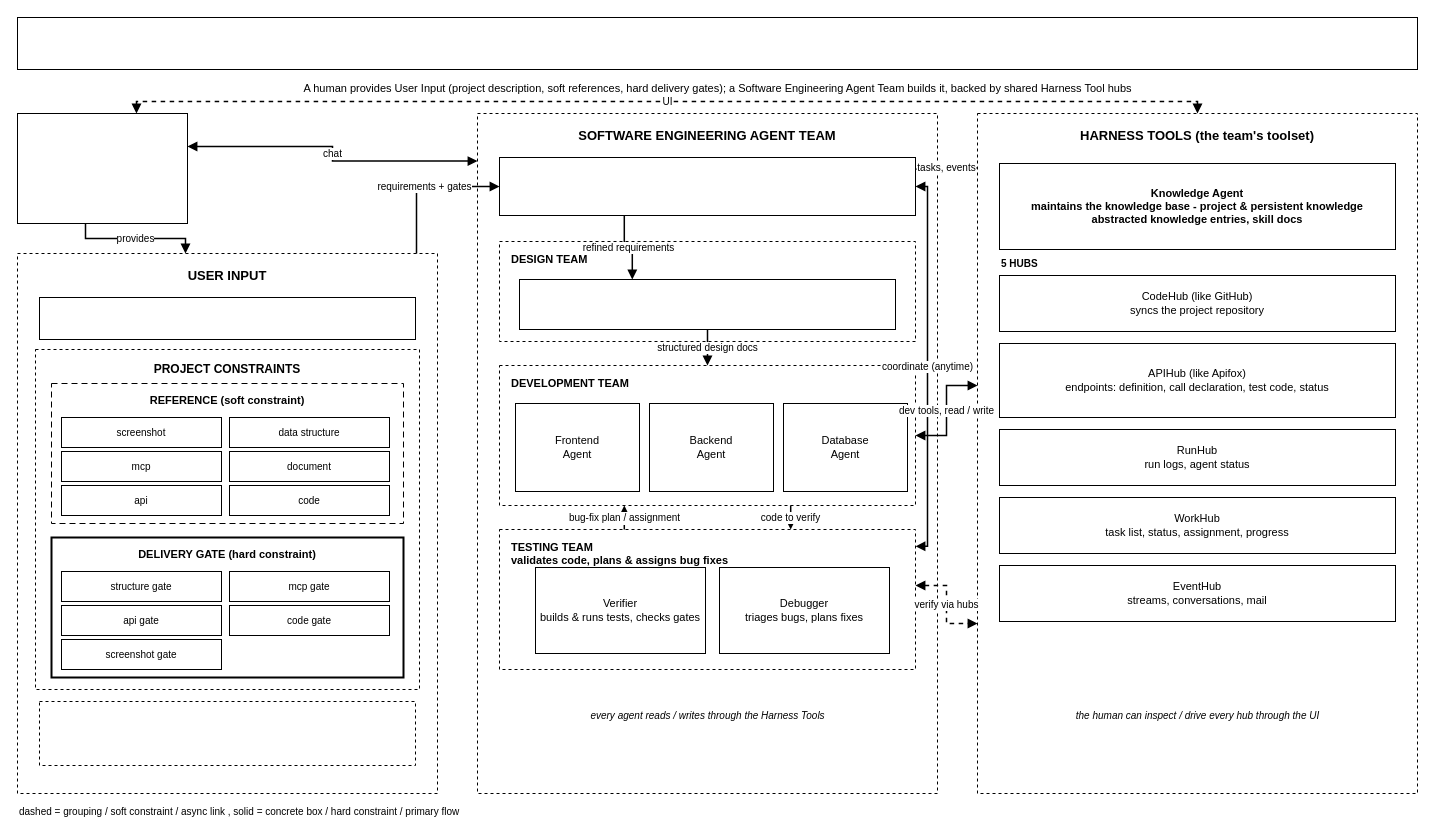
The diagram is 1435 pixels wide and 839 high, and some of its shapes have lost their labels. Here are the shapes that lost their labels. From the top down, the centre of each, then its label:
At point (717, 43): "env-gen - System Architecture Overview".
At point (102, 168): "HUMAN (USER) provides User Input chats with the team drives every hub via UI".
At point (707, 186): "ORCHESTRATOR refines requirements, dispatches phases, coordinates the team".
At point (227, 318): "Project Description".
At point (707, 304): "Design Agent turns refined requirements into structured design docs".
At point (227, 733): "DEFAULT GATES (system-provided) baseline gates applied when the user omits them".
